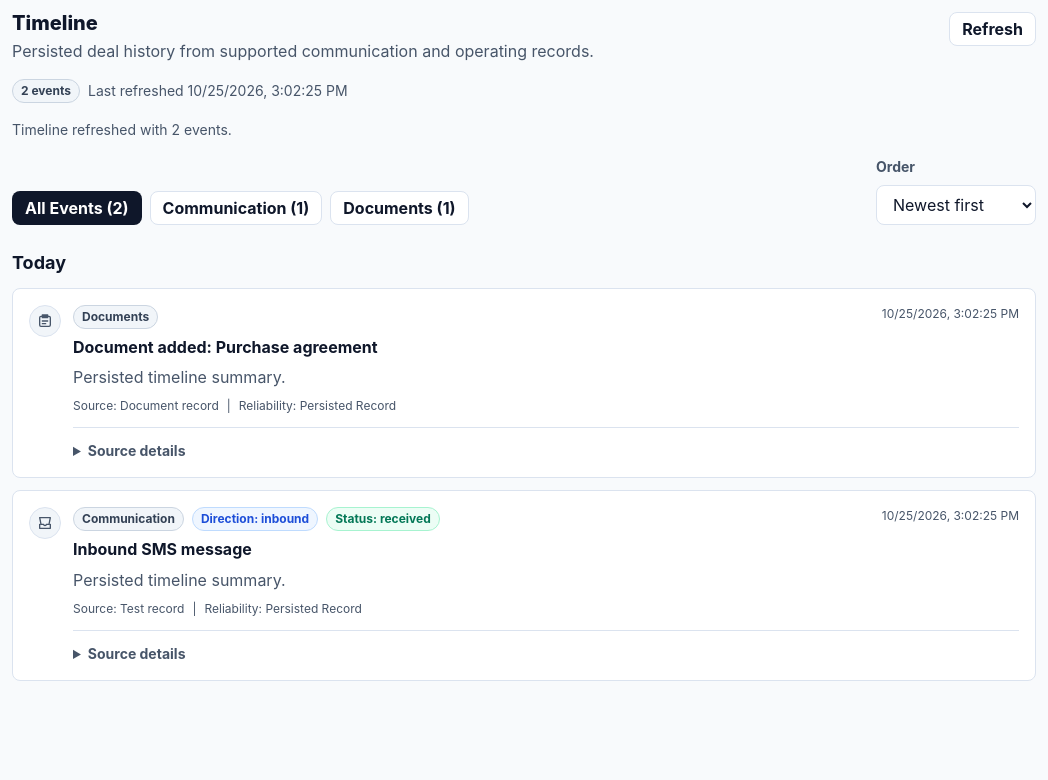
Test case: DealTimeline › renders semantic date groups, source labels, and backed category filters
Expected: the heading "Timeline" is shown, left=12, top=11, right=98, bottom=35
Expected: the heading "Today" is shown, left=12, top=252, right=66, bottom=273
Click the button "Communication (1)" at (236, 208), box left=150, top=191, right=322, bottom=225
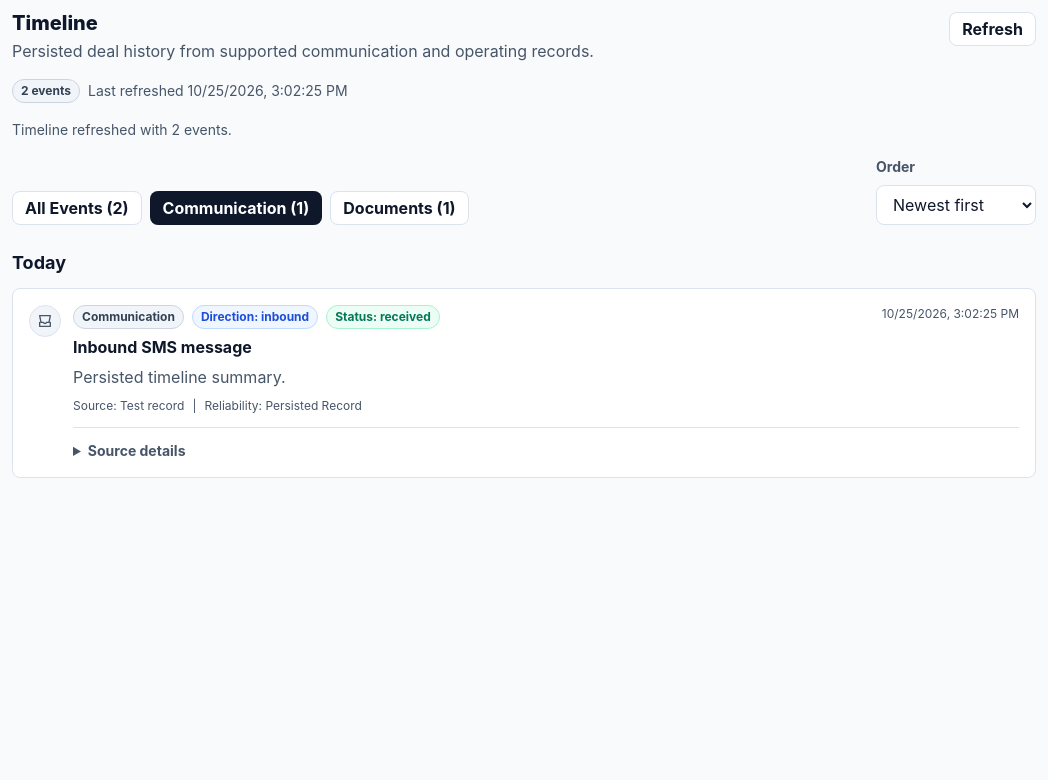
Expected: the heading "Inbound SMS message" is shown, left=73, top=337, right=252, bottom=357
Result: the heading "Document added: Purchase agreement" is gone
